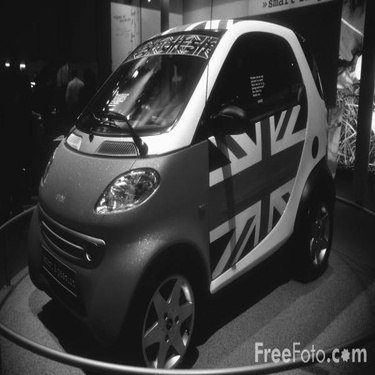car: (20, 6, 337, 370)
